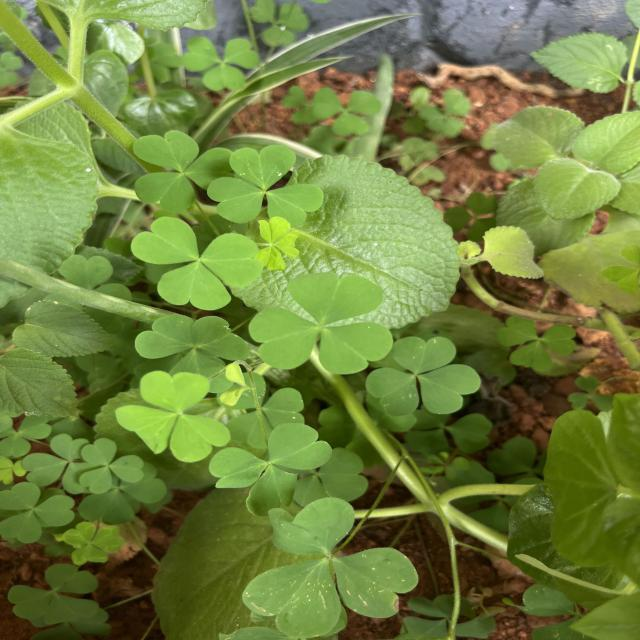Oxalis corniculata: (240, 496, 420, 639), (247, 271, 395, 376), (130, 216, 264, 311), (208, 422, 334, 517), (114, 370, 232, 463), (206, 143, 326, 228), (364, 335, 482, 417), (131, 129, 239, 214), (133, 314, 250, 371), (0, 480, 76, 543), (21, 433, 90, 494), (78, 437, 145, 494)
